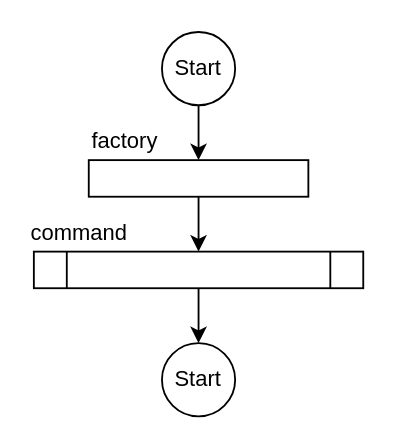
The diagram is 395 pixels wide and 448 high, and some of its shapes have lost their labels. Here are the shapes that lost their labels. From the top down, the centre of each, then its label:
At point (197, 177): "create stop condition".
At point (197, 269): "initialize experiment result".
